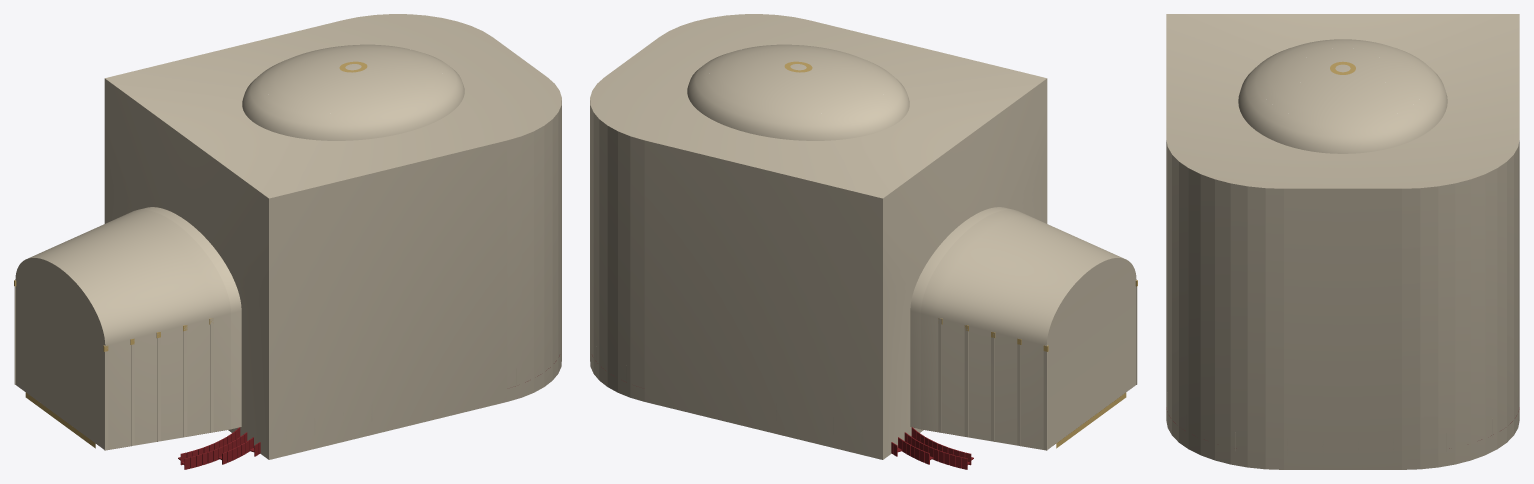
File: carnegie_hall.glb
3 renders of one model, left to right at view 1: azimuth 30°, elevation 25°; view 2: azimuth 150°, elevation 25°; view 3: azimuth 270°, elevation 25°, orthographic. The views are drawn at different scales.
Visible parts, largest first — view 1: Hall_Plaster, Hall_Velvet, Hall_Gold; view 2: Hall_Plaster, Hall_Velvet, Hall_Gold; view 3: Hall_Plaster.
Part boxes in pixels (x1,y1,x2,y2): Hall_Plaster: (14, 14, 561, 459); Hall_Velvet: (178, 427, 260, 469); Hall_Gold: (14, 61, 367, 448); Hall_Plaster: (590, 14, 1137, 459); Hall_Velvet: (891, 427, 973, 469); Hall_Gold: (784, 61, 1137, 448); Hall_Plaster: (1166, 14, 1519, 469).
Size of the model in its own units: 43.71 by 26.5 by 27.
